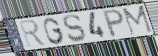4: (88, 11, 108, 41)
G: (42, 16, 66, 46)
M: (121, 4, 154, 37)
P: (102, 9, 126, 40)
R: (17, 18, 48, 48)
S: (62, 13, 88, 44)
